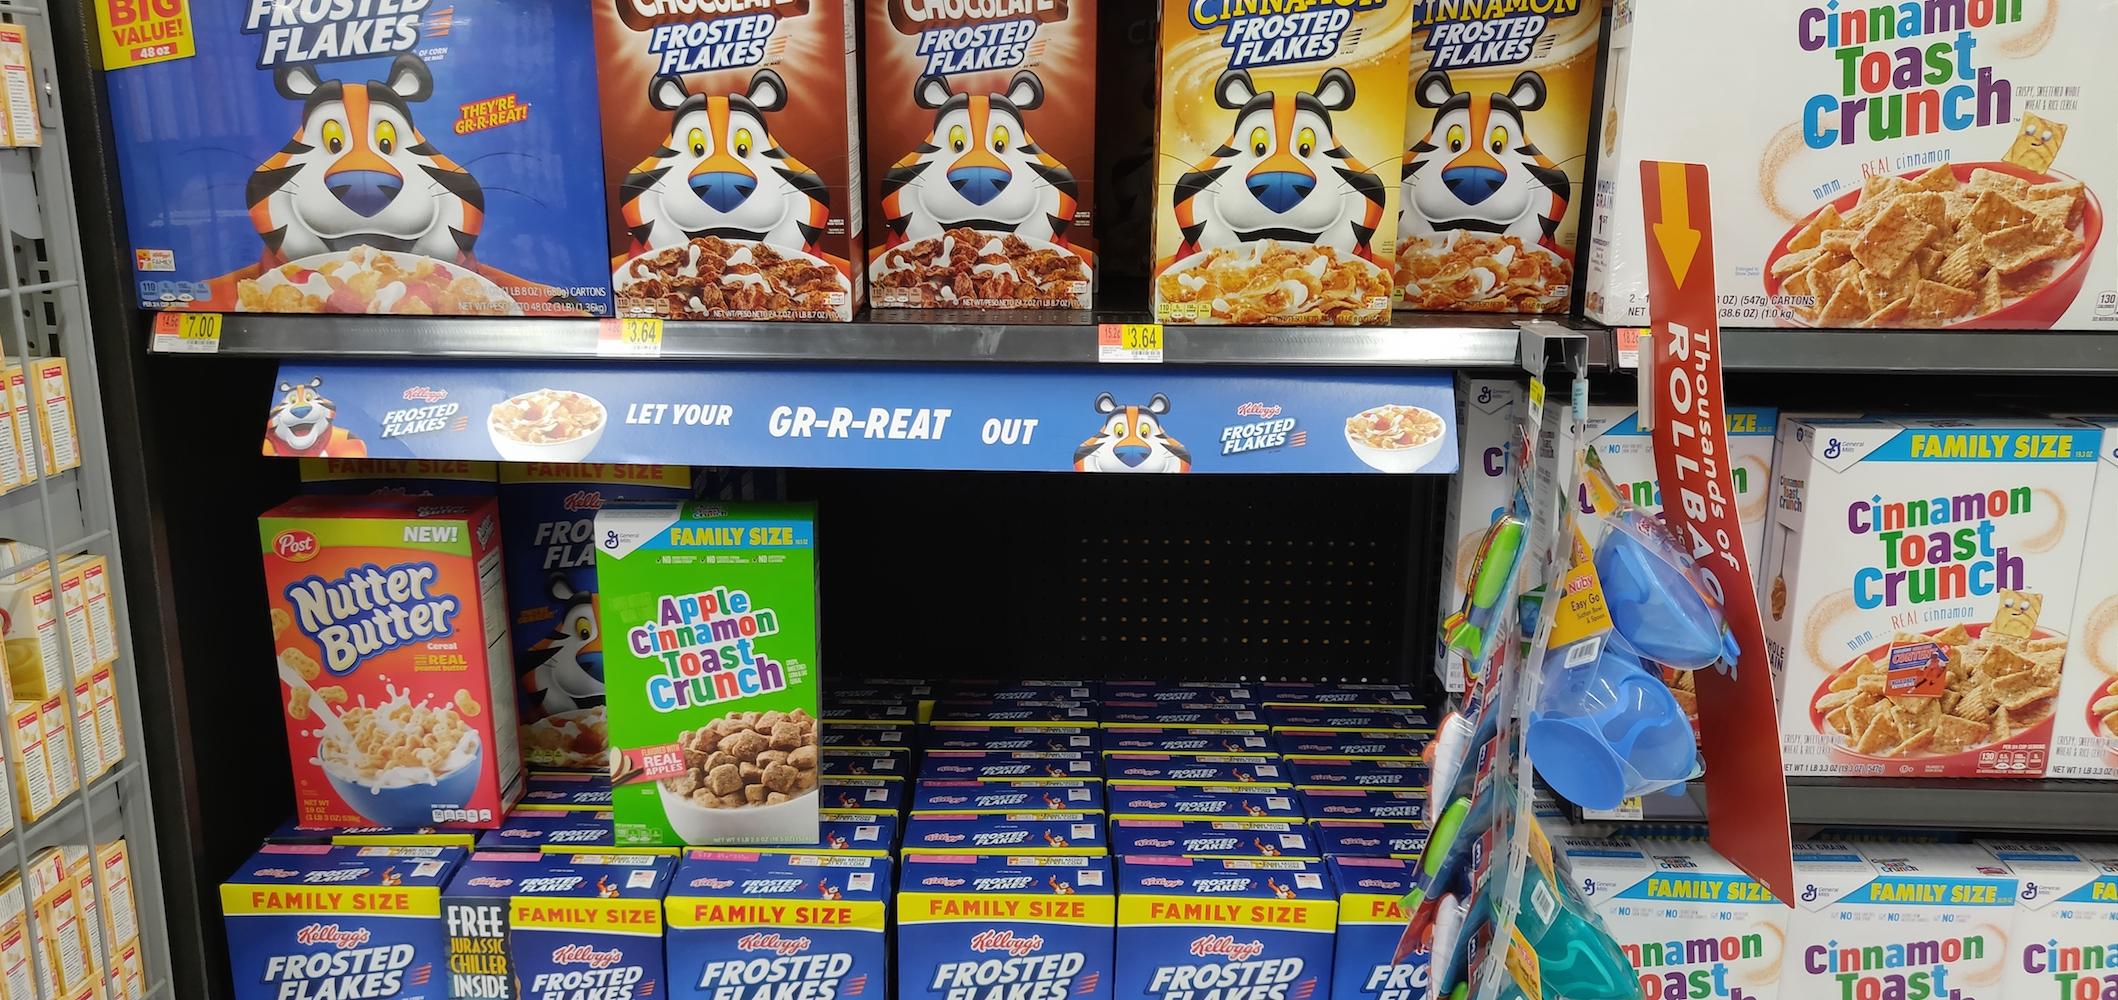Nutter Butter-565717511: (272, 518, 525, 818)
